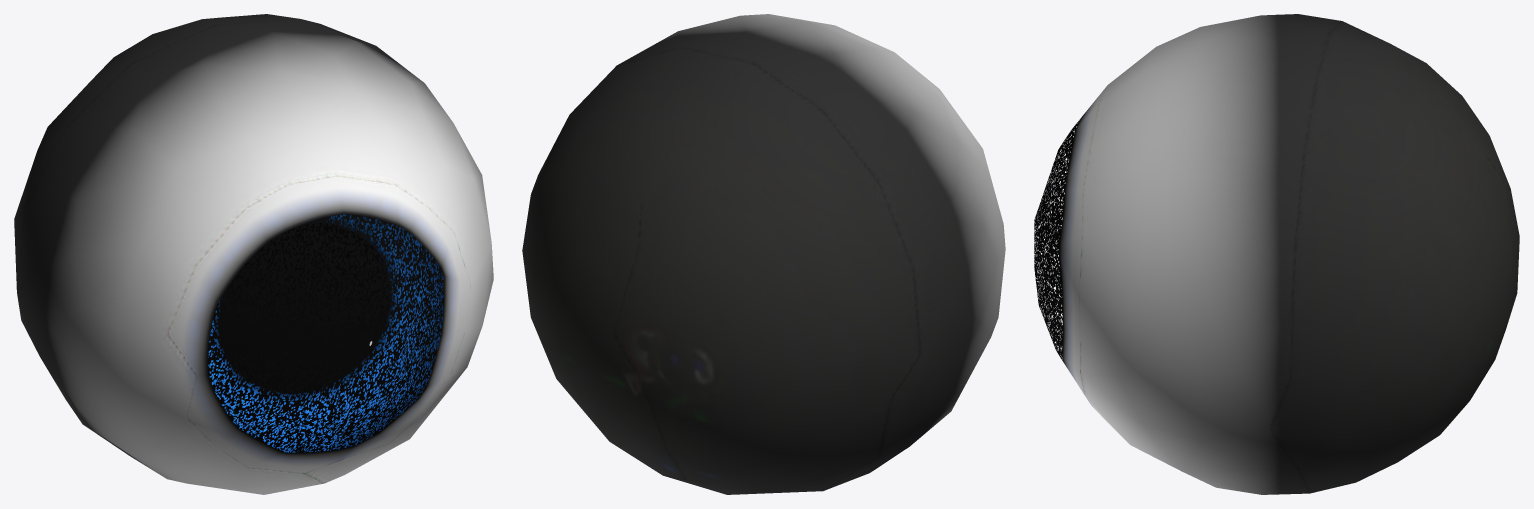
The model's file is Auge.fbx.
3 renders of one model, left to right at view 1: azimuth 30°, elevation 25°; view 2: azimuth 150°, elevation 25°; view 3: azimuth 270°, elevation 25°, orthographic.
Parts seen in each view (by area): view 1: eye.004; view 2: eye.004; view 3: eye.004.
Boxes of the visible parts, x1=… form: eye.004: x1=14, y1=14, x2=493, y2=494; eye.004: x1=522, y1=14, x2=1005, y2=494; eye.004: x1=1034, y1=14, x2=1519, y2=494.
Size of the model in its own units: 44.73 by 44.73 by 45.19.
Materials: 1 (1 with a texture image).
